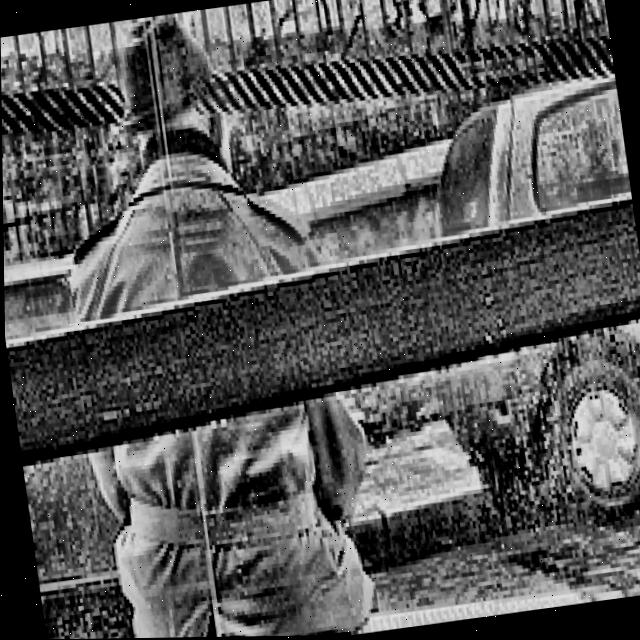light_vehicle: (395, 52, 640, 536), (3, 244, 157, 640)
